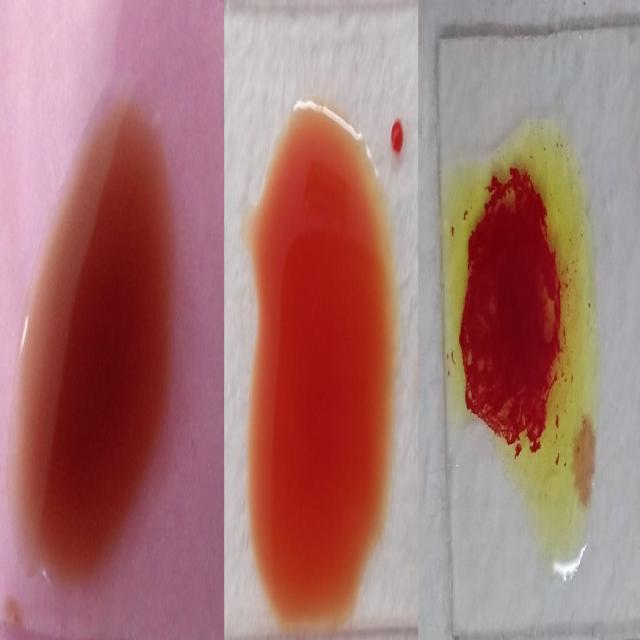B: (454, 100, 599, 552)
